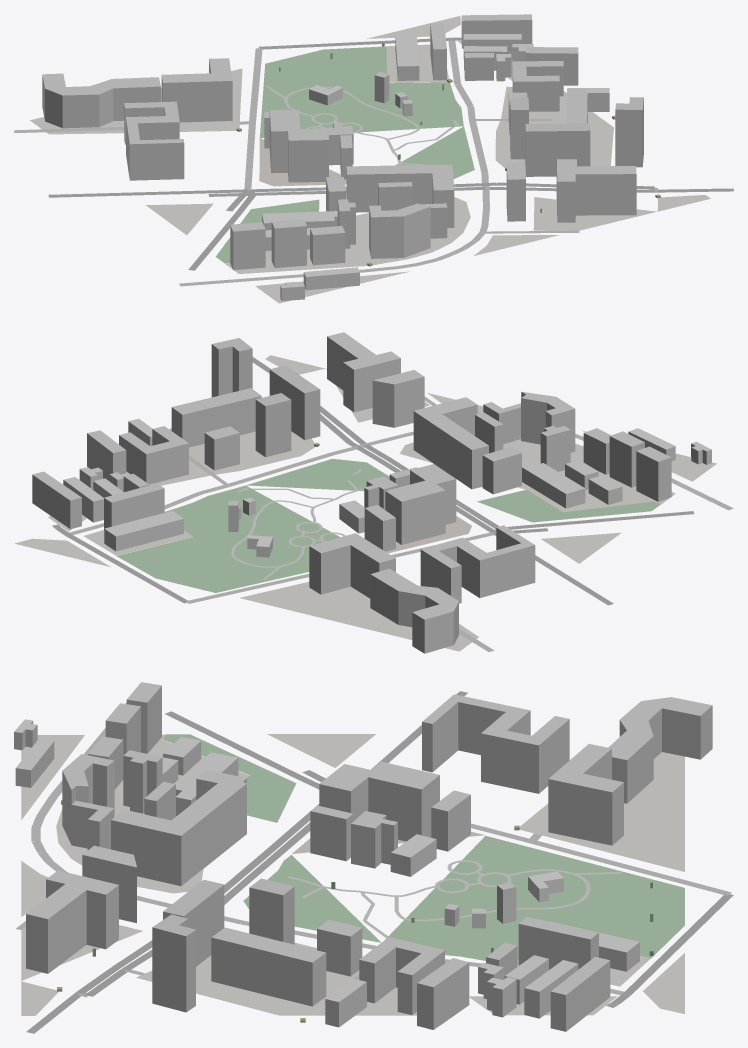
The picture shows the model from 3 angles, top to bottom: view 1: azimuth 30°, elevation 25°; view 2: azimuth 150°, elevation 25°; view 3: azimuth 270°, elevation 25°; orthographic projection. The views are drawn at different scales.
Bounding box in the file's own units: 607 × 63.4 × 543.
